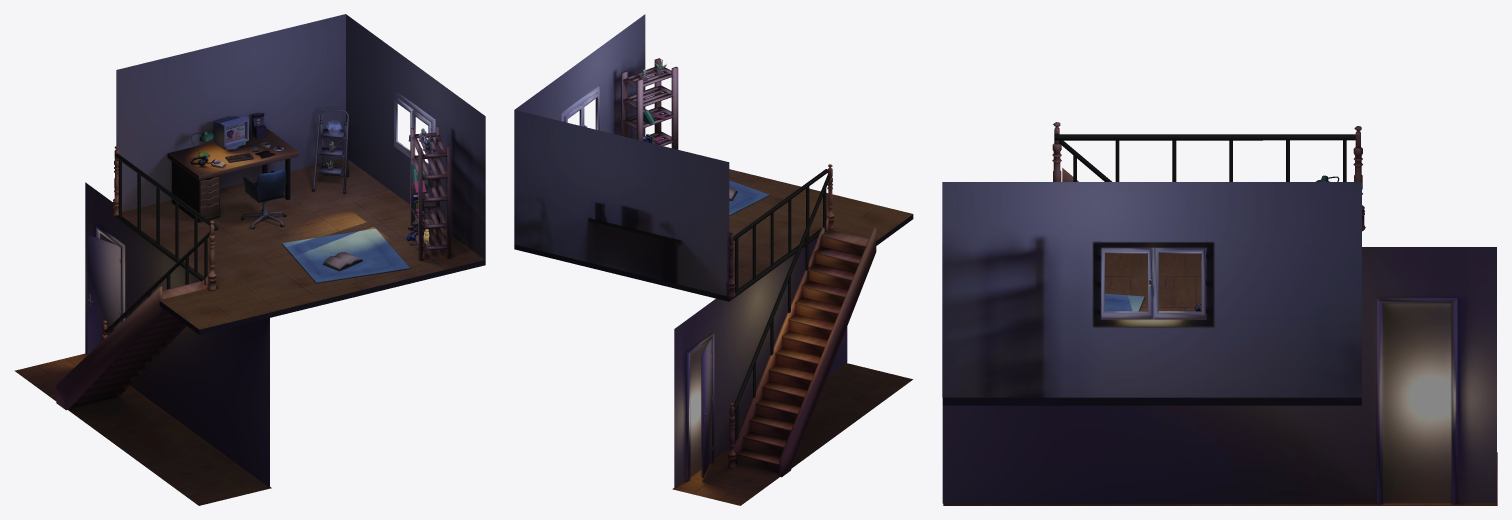
The picture shows the model from 3 angles, left to right: view 1: azimuth 30°, elevation 25°; view 2: azimuth 150°, elevation 25°; view 3: azimuth 270°, elevation 25°; orthographic projection. The views are drawn at different scales.
Visible parts, largest first — view 1: enviro, bureau, rambarde, ordinateur; view 2: enviro, rambarde; view 3: enviro, rambarde.
Part boxes in pixels (box(x1,y1,x2,y2)): enviro: box(14, 14, 485, 505); bureau: box(167, 129, 298, 222); rambarde: box(104, 153, 218, 333); ordinateur: box(213, 116, 248, 149); enviro: box(514, 14, 913, 505); rambarde: box(733, 169, 830, 440); enviro: box(942, 122, 1497, 505); rambarde: box(1054, 133, 1355, 181).
Bounding box in the file's own units: 4.58 × 4.88 × 5.1.
19 materials, 11 textured.
